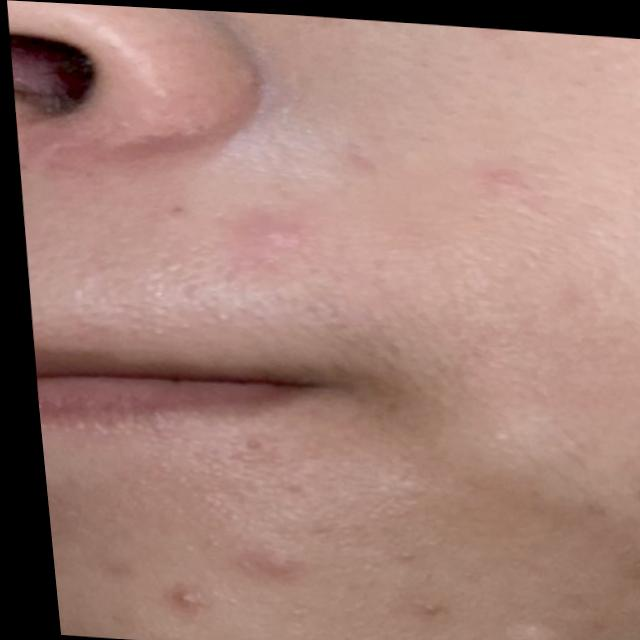papule: (215, 192, 336, 272), (221, 525, 294, 594)
pustule: (159, 580, 210, 628)
